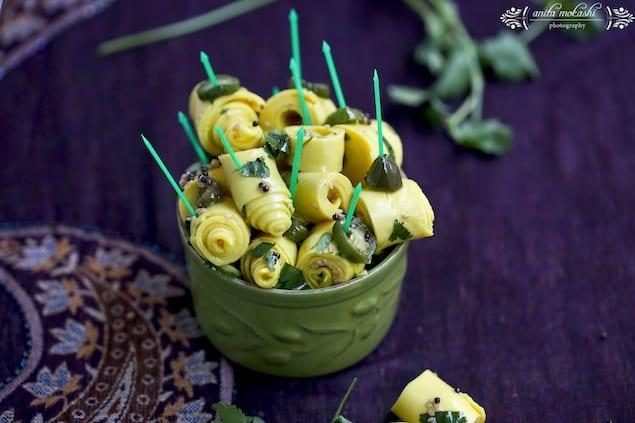khandvi: (166, 81, 424, 274)
